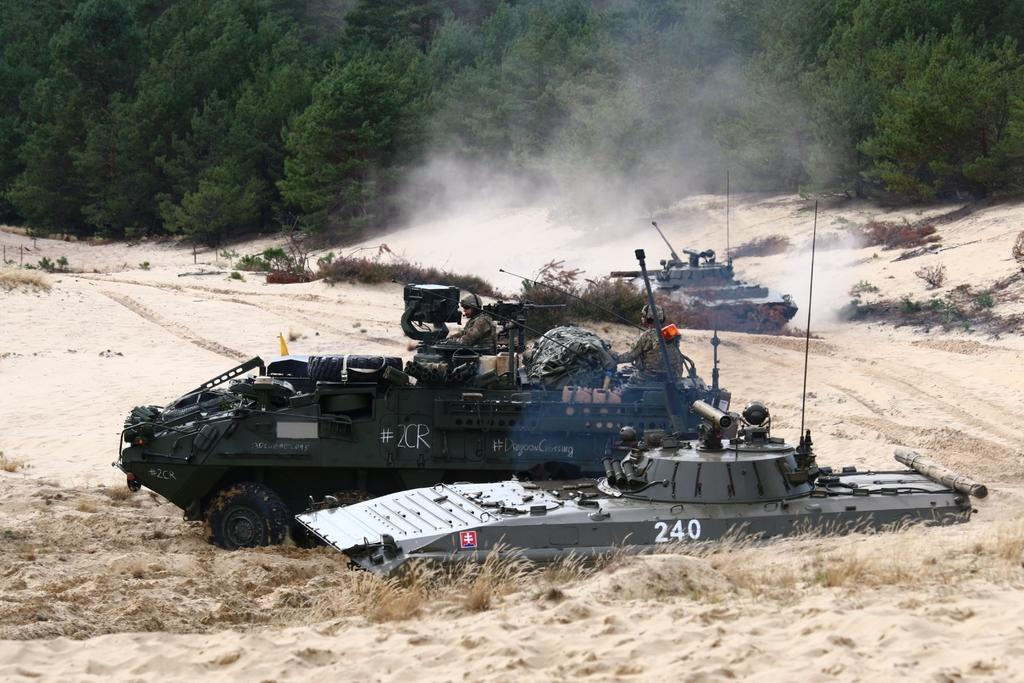Tank: (291, 200, 986, 587), (610, 168, 797, 328)
